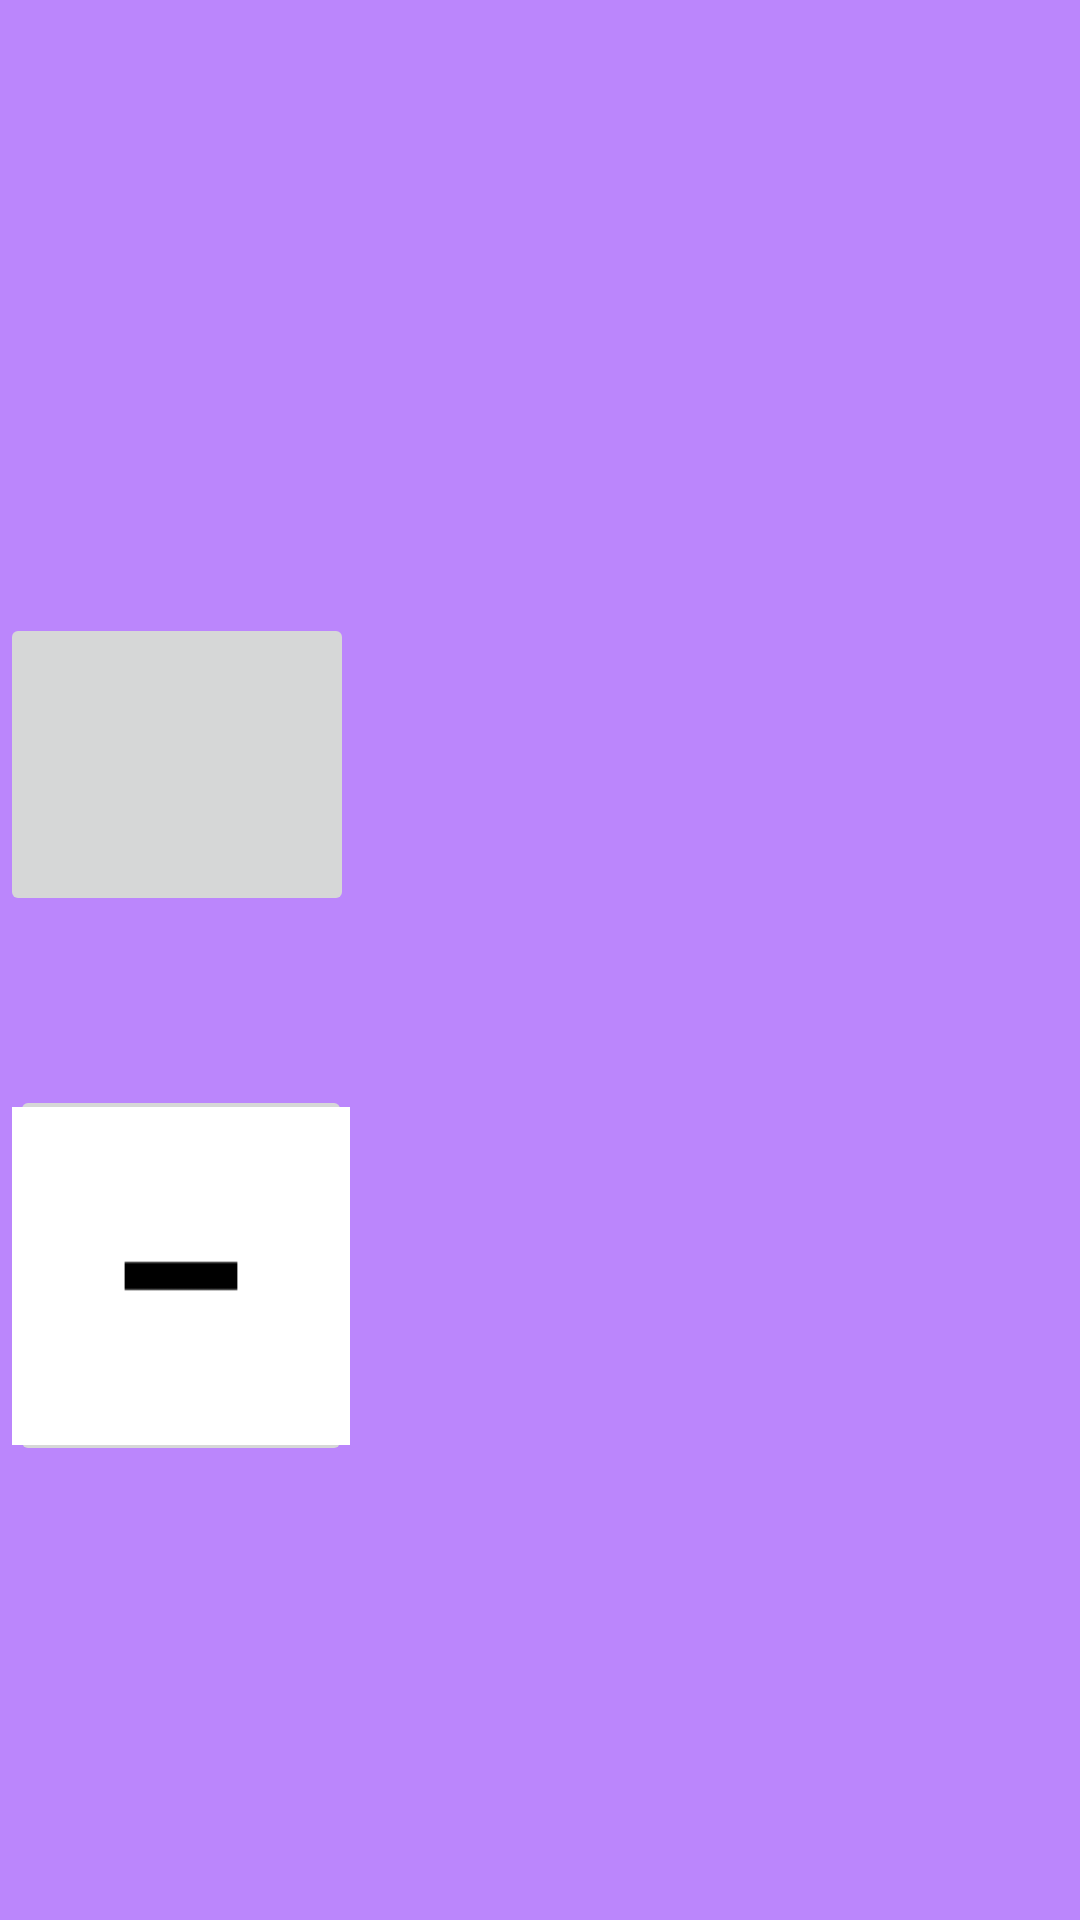

Icons on this 1080 × 1920 Android screen, each with its box as [left=x1, top=y1, right=x2, bottom=y2]:
subtract: [left=12, top=1103, right=350, bottom=1448]
